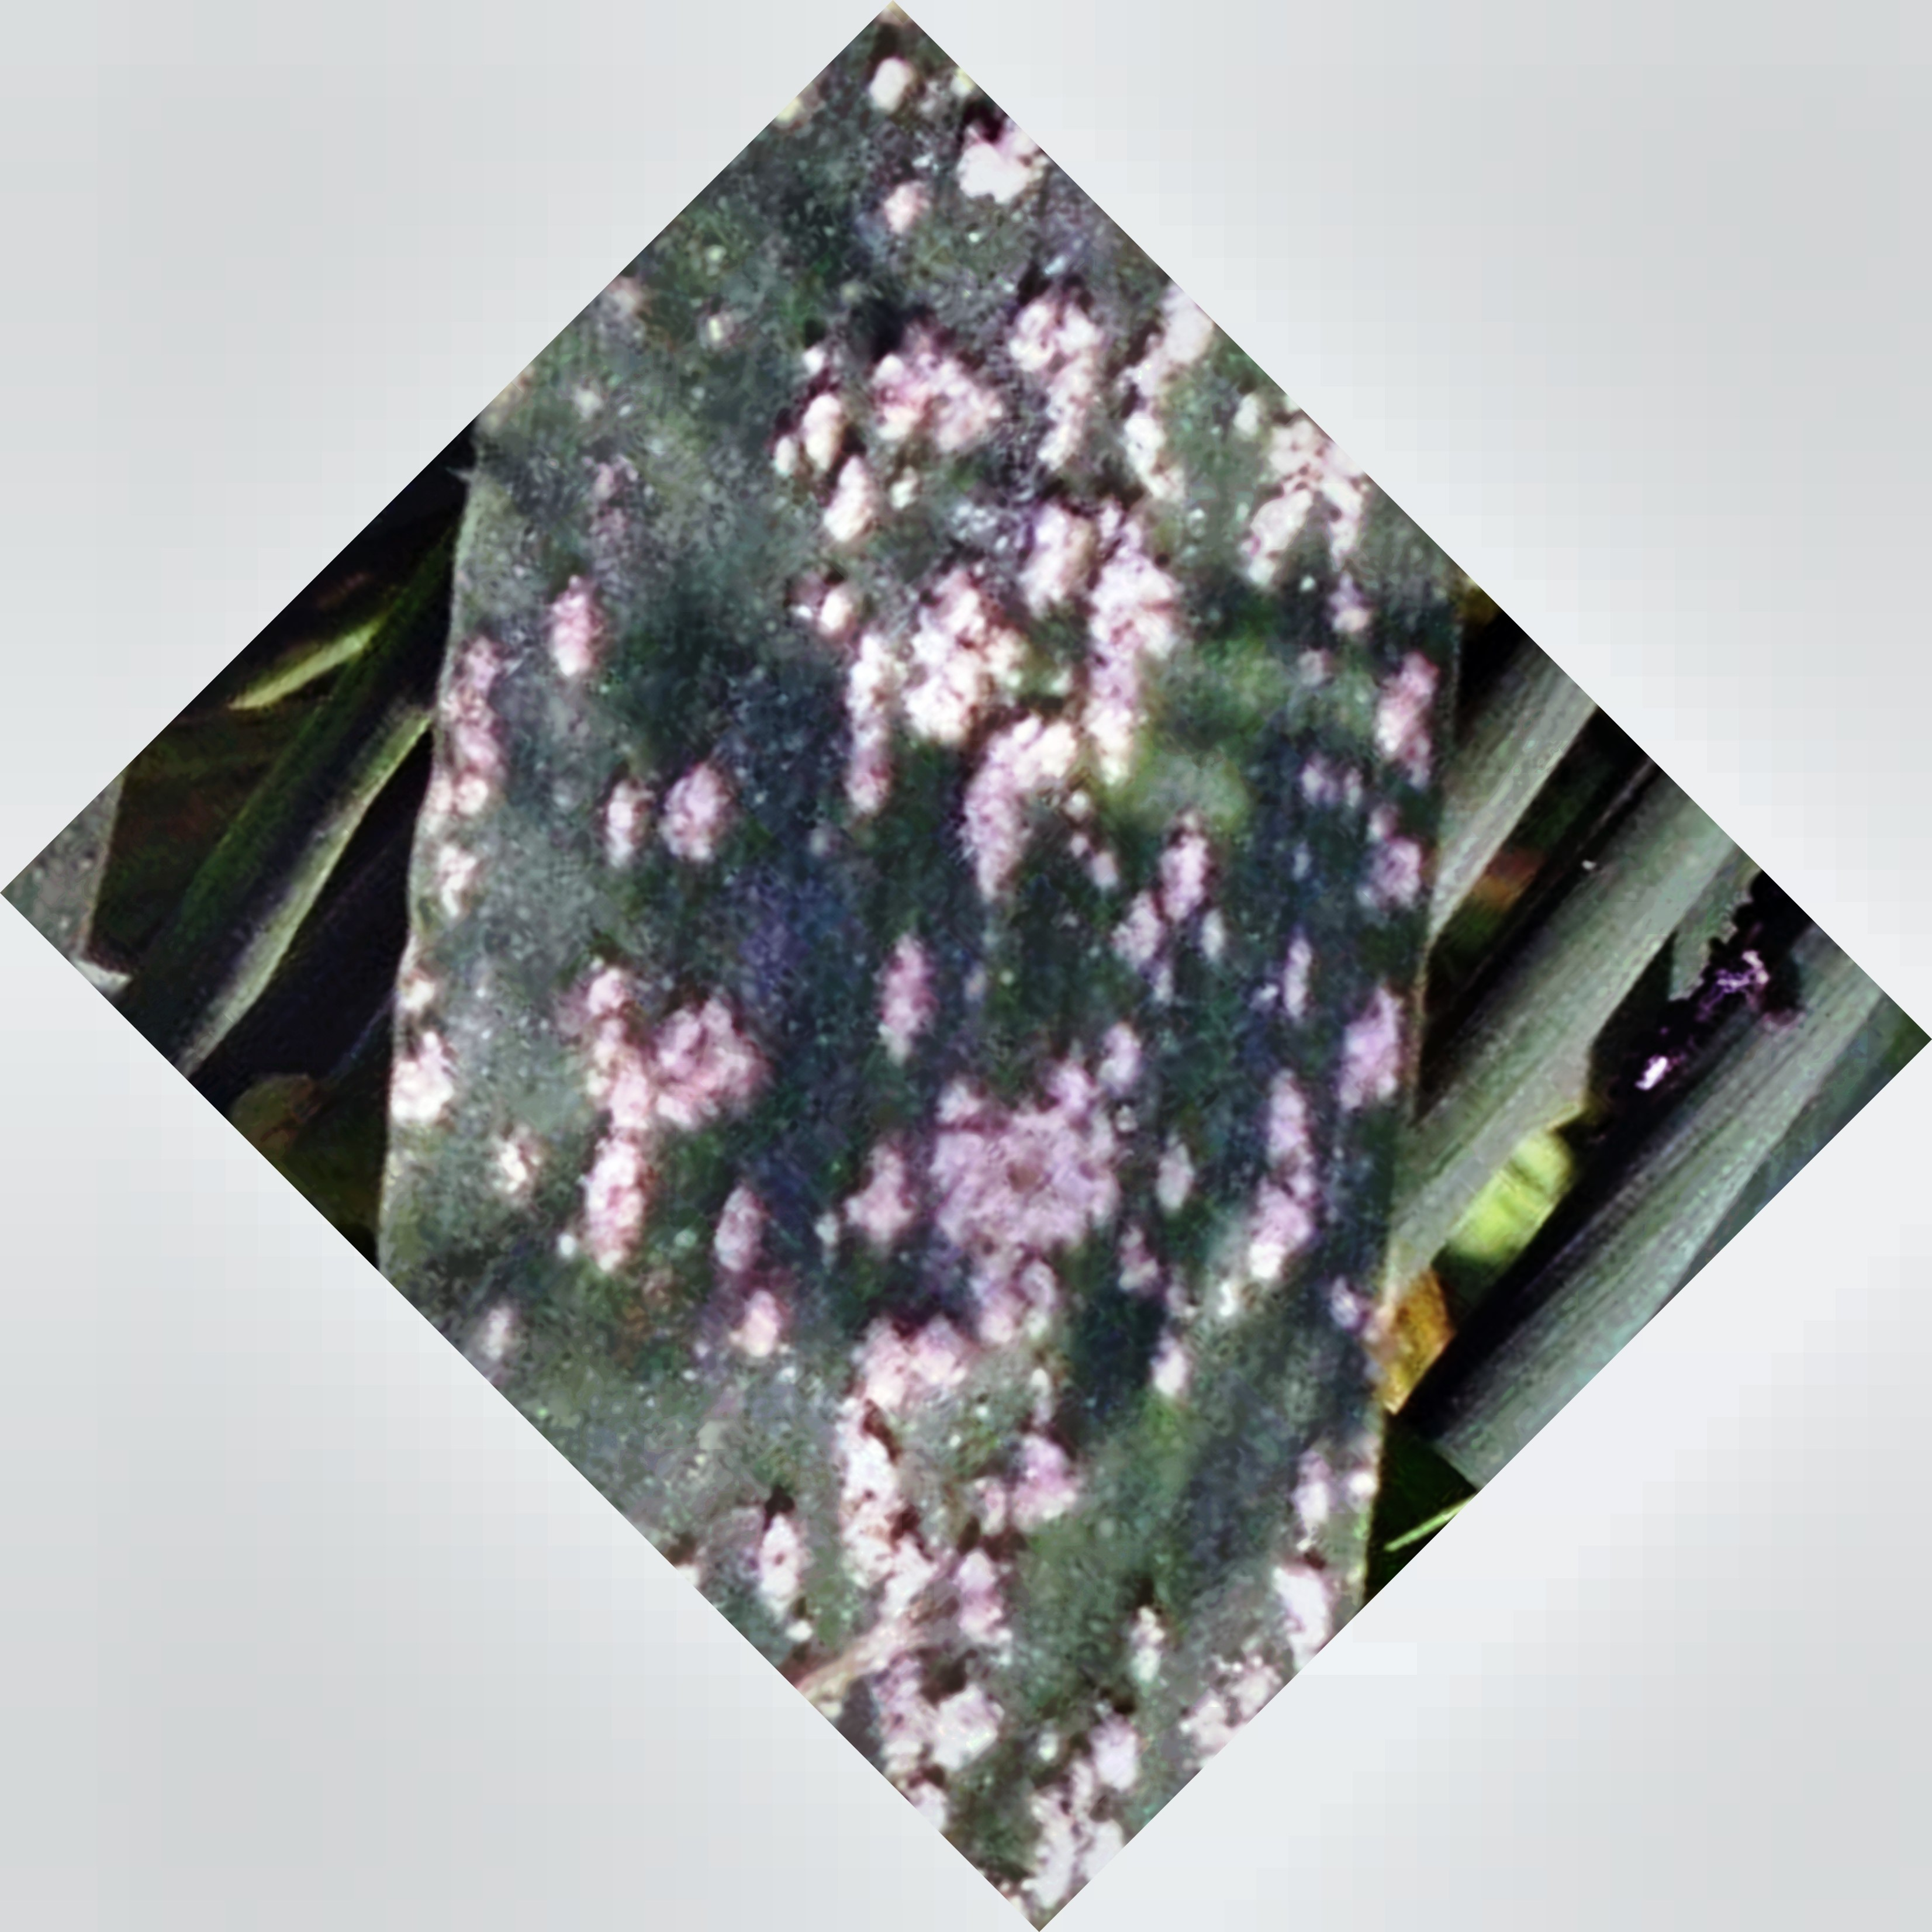Powdery Mildew: (416, 295, 1412, 1725)
